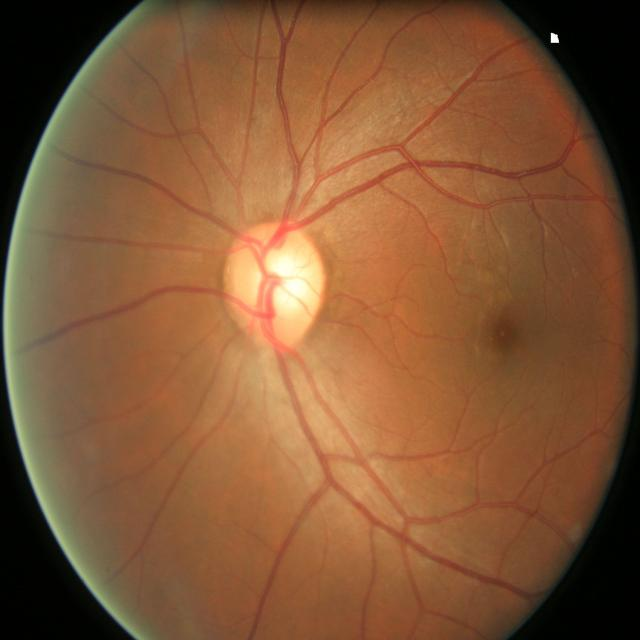OC: (253, 248, 310, 316)
OD: (225, 222, 326, 349)
